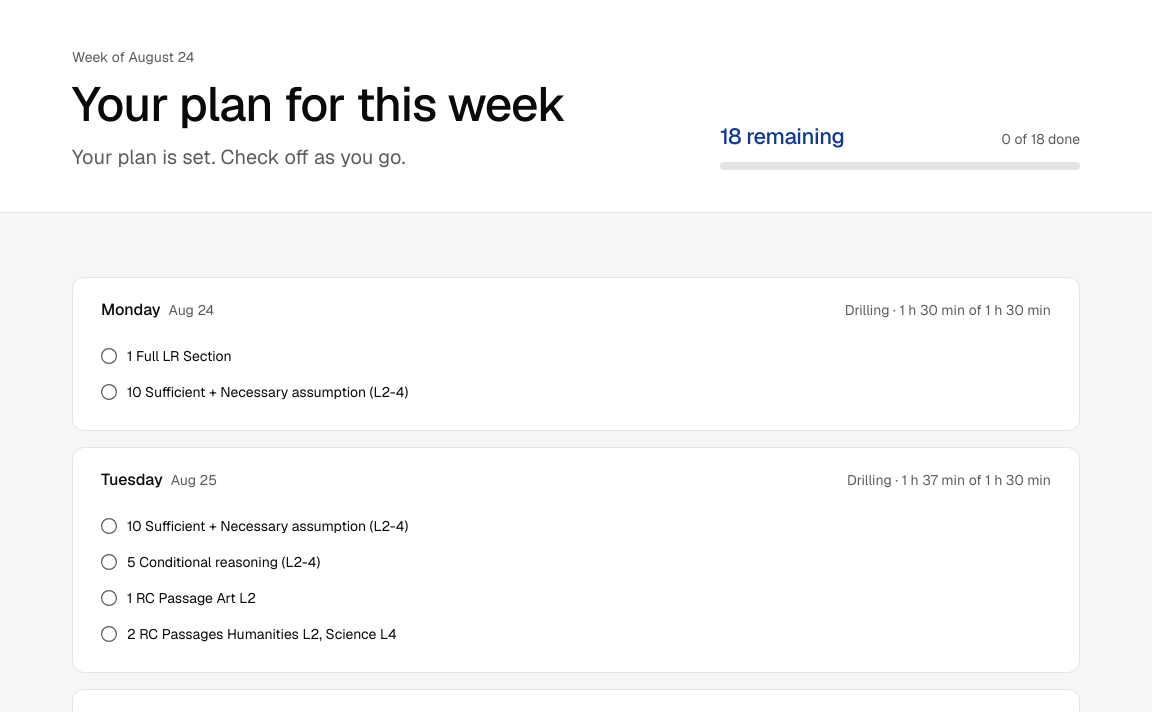
Scenario: ScheduleCheckInView › checks a line off with one press and clears it with the next
What coordinates should you click on to do the following:
click the checkbox labelled "1 Full LR Section"
I would click on:
 (179, 356)
Its box is [93,338,1059,374].
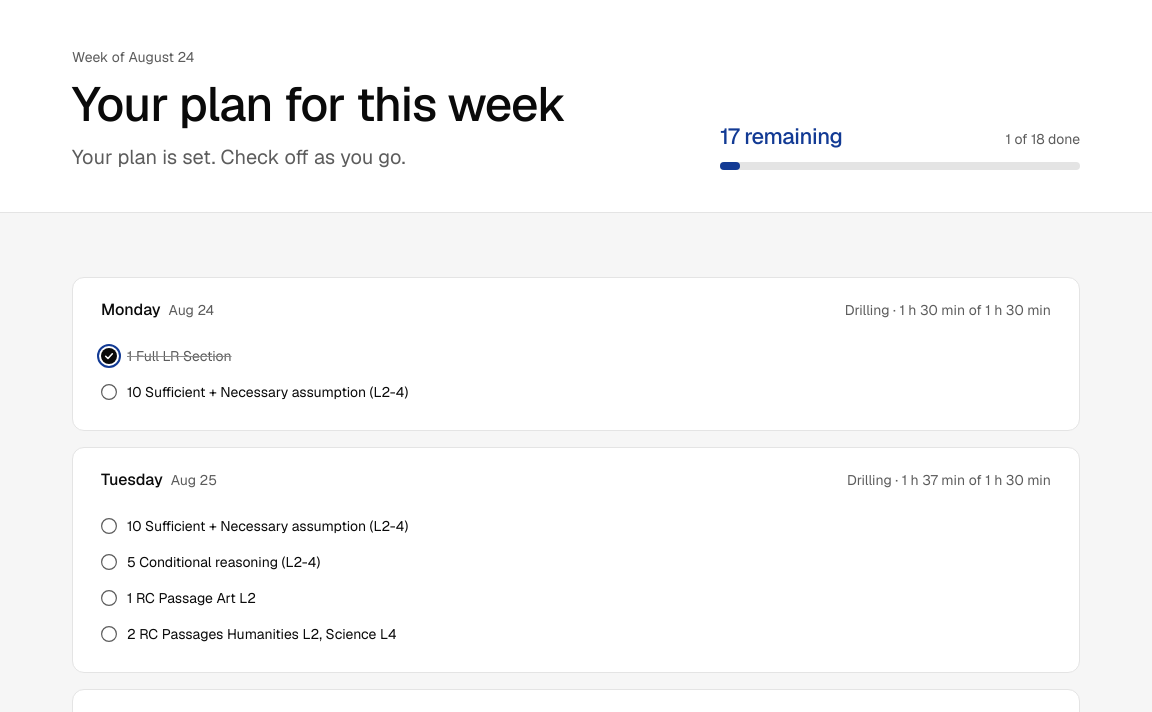
Result: the text "17 remaining" is shown at [720,122,842,150]
Result: the text "1 of 18 done" is shown at [1006,130,1080,148]
What coordinates should you click on to do the following:
click the checkbox labelled "1 Full LR Section"
I would click on:
 (179, 356)
Its box is [93,338,1059,374].
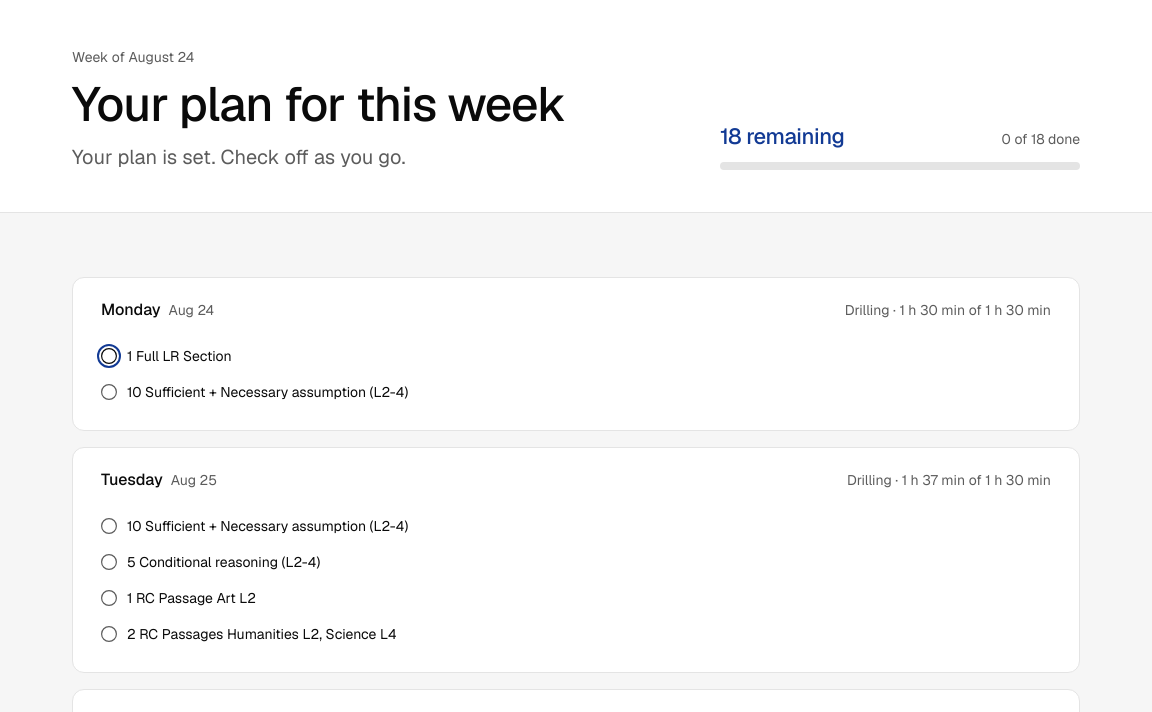
Result: the text "18 remaining" is shown at [720,122,844,150]
